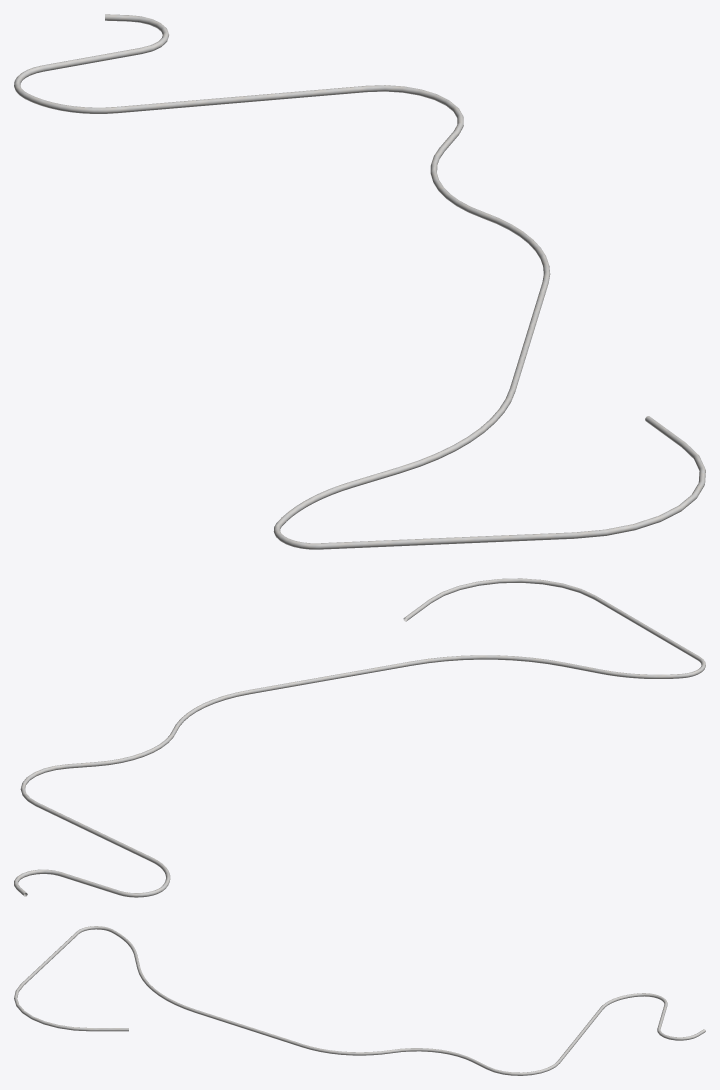
File: Pipe__24.fbx
3 renders of one model, top to bottom at view 1: azimuth 30°, elevation 25°; view 2: azimuth 150°, elevation 25°; view 3: azimuth 270°, elevation 25°, orthographic. The views are drawn at different scales.
Visible parts, largest first — view 1: Pipe_Red; view 2: Pipe_Red; view 3: Pipe_Red.
Part boxes in pixels (bbox=[...]): Pipe_Red: bbox=[14, 14, 705, 549]; Pipe_Red: bbox=[14, 578, 705, 897]; Pipe_Red: bbox=[14, 926, 705, 1075].
Size of the model in its own units: 8.23 by 0.08 by 16.28.
1 material, 1 textured.
